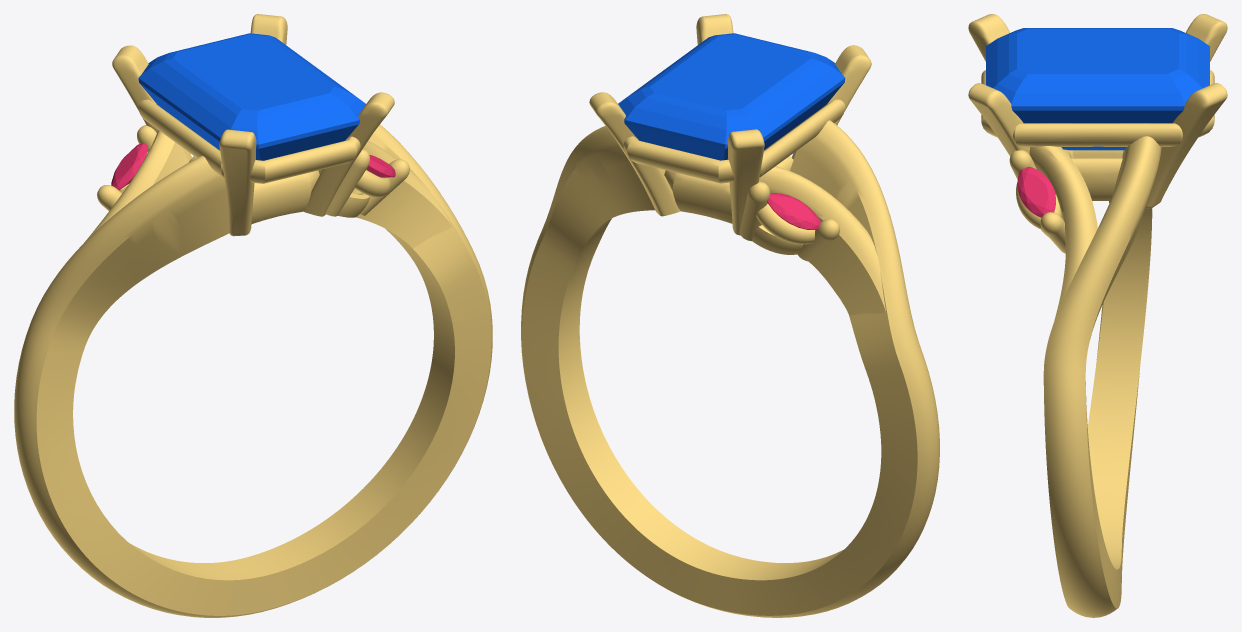
The model's file is Nicholas v1.glb.
3 renders of one model, left to right at view 1: azimuth 30°, elevation 25°; view 2: azimuth 150°, elevation 25°; view 3: azimuth 270°, elevation 25°, orthographic.
Parts seen in each view (by area): view 1: Nicholas YG for 3d model, Nicholas center sapph for 3d model, Nicholas ruby for 3d model; view 2: Nicholas YG for 3d model, Nicholas center sapph for 3d model, Nicholas ruby for 3d model; view 3: Nicholas YG for 3d model, Nicholas center sapph for 3d model, Nicholas ruby for 3d model.
Part boxes in pixels (left/top/right/bottom): Nicholas YG for 3d model: left=14, top=14, right=492, bottom=617; Nicholas center sapph for 3d model: left=138, top=33, right=365, bottom=160; Nicholas ruby for 3d model: left=111, top=143, right=395, bottom=190; Nicholas YG for 3d model: left=521, top=14, right=939, bottom=617; Nicholas center sapph for 3d model: left=618, top=33, right=845, bottom=160; Nicholas ruby for 3d model: left=767, top=193, right=820, bottom=229; Nicholas YG for 3d model: left=968, top=14, right=1227, bottom=617; Nicholas center sapph for 3d model: left=986, top=28, right=1209, bottom=150; Nicholas ruby for 3d model: left=1017, top=166, right=1055, bottom=217.
Bounding box in the file's own units: 18.42 × 21.38 × 9.26.
